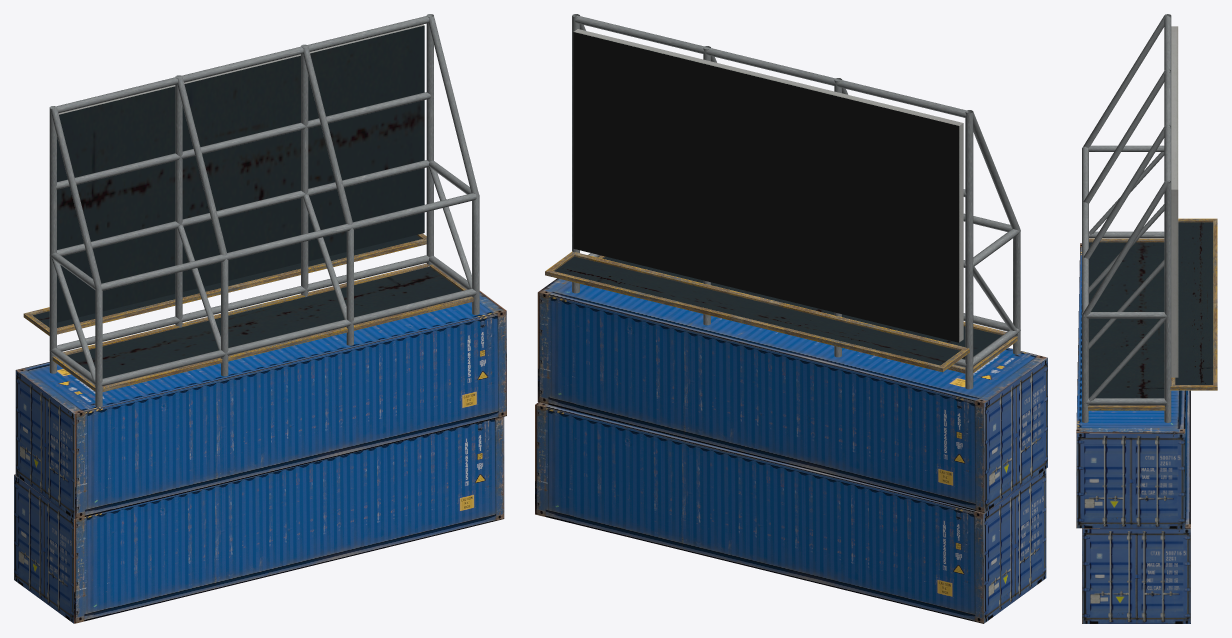
Rendered from Big-Screen-07.fbx.
3 views of the same model, side by side, from view 1: azimuth 30°, elevation 25°; view 2: azimuth 150°, elevation 25°; view 3: azimuth 270°, elevation 25° (orthographic). The views are drawn at different scales.
Visible parts, largest first — view 1: Screen-Container; view 2: Screen-Container, Screen; view 3: Screen-Container.
Boxes of the visible parts, x1,y1,x2,y2 form: Screen-Container: [14, 14, 506, 623]; Screen-Container: [535, 14, 1047, 623]; Screen: [573, 32, 958, 342]; Screen-Container: [1076, 14, 1217, 623].
Bounding box in the file's own units: 1242 × 1310 × 389.
